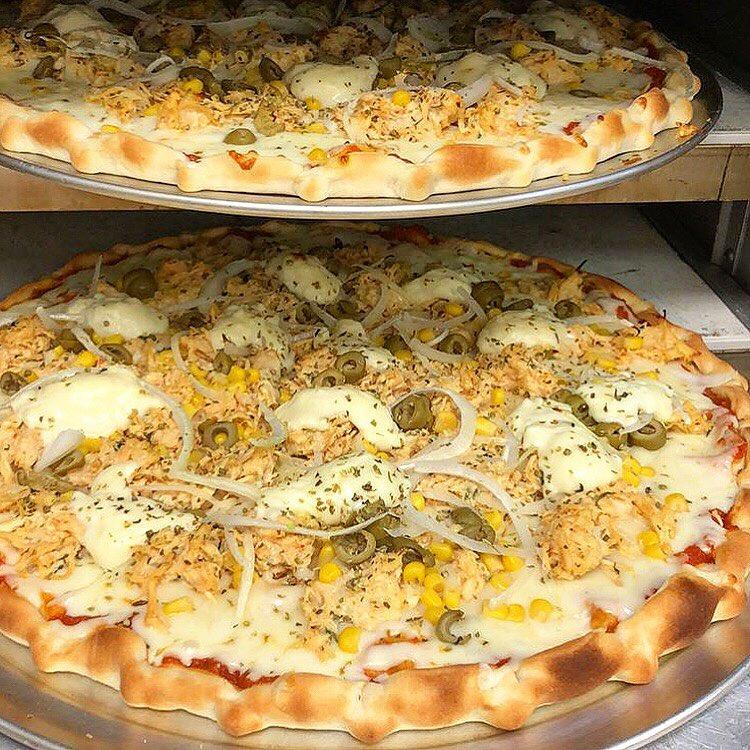Corn: (336, 621, 370, 657), (479, 595, 510, 624), (662, 490, 692, 519), (431, 405, 460, 435), (473, 411, 501, 442), (400, 557, 429, 586), (524, 593, 554, 621), (230, 560, 261, 587), (426, 537, 457, 564), (501, 599, 529, 627), (163, 592, 195, 616), (477, 550, 507, 575), (638, 541, 673, 562), (482, 502, 504, 533), (417, 584, 443, 609), (92, 328, 126, 347), (441, 587, 465, 613), (318, 560, 342, 585), (619, 453, 644, 477), (617, 468, 645, 489), (635, 367, 664, 387), (152, 348, 181, 368), (358, 435, 381, 460), (422, 569, 446, 592), (491, 569, 515, 592), (180, 74, 205, 96), (592, 353, 619, 373), (96, 120, 126, 138), (314, 541, 335, 566), (488, 383, 509, 408), (502, 551, 524, 574), (141, 94, 164, 116), (622, 332, 647, 352), (222, 544, 241, 570), (638, 526, 660, 548), (423, 604, 447, 624), (225, 362, 245, 386), (510, 40, 535, 59), (407, 490, 428, 512), (225, 377, 249, 396), (193, 371, 215, 391), (166, 43, 187, 63), (304, 119, 330, 135), (391, 89, 413, 107), (371, 445, 392, 463), (239, 417, 257, 438), (305, 147, 329, 162), (31, 81, 52, 98), (212, 45, 228, 67), (16, 74, 38, 90), (396, 348, 416, 365), (415, 325, 435, 342), (243, 368, 263, 385), (444, 302, 468, 316), (640, 464, 658, 481), (77, 350, 95, 367), (234, 50, 252, 67), (584, 58, 603, 74), (195, 47, 213, 63), (307, 95, 325, 110), (182, 400, 201, 414), (190, 364, 210, 377), (213, 430, 229, 444), (192, 392, 209, 405), (208, 381, 226, 393)
Mushroom: (0, 223, 750, 732), (0, 0, 701, 197)
Olives: (448, 500, 499, 548), (431, 602, 478, 653), (551, 388, 597, 436), (597, 418, 665, 446), (472, 280, 533, 310), (312, 352, 364, 386), (352, 499, 394, 538), (335, 528, 380, 564), (295, 300, 363, 323), (393, 395, 433, 429), (120, 266, 158, 301), (175, 63, 219, 91), (169, 307, 213, 334), (307, 243, 345, 274), (220, 76, 267, 101), (200, 420, 239, 450), (393, 536, 430, 565), (208, 347, 237, 380), (257, 53, 286, 84), (27, 22, 61, 48), (49, 451, 85, 475), (447, 22, 479, 49), (221, 125, 258, 148), (58, 327, 93, 351), (0, 370, 31, 397), (377, 52, 404, 82), (98, 342, 131, 366), (28, 52, 55, 81), (132, 28, 164, 51), (565, 84, 601, 103), (438, 333, 469, 355), (553, 299, 581, 319), (384, 332, 406, 353)
Onion: (399, 457, 538, 572), (392, 383, 486, 478), (124, 368, 204, 478), (365, 301, 478, 374), (385, 505, 524, 560), (165, 256, 281, 315), (204, 509, 398, 542), (160, 455, 264, 514), (31, 307, 122, 366), (218, 522, 261, 635), (120, 478, 230, 519), (347, 266, 401, 349), (678, 401, 742, 466), (202, 15, 331, 45), (272, 294, 339, 351), (0, 366, 78, 414), (22, 424, 85, 480), (89, 0, 218, 27), (168, 328, 217, 398), (638, 362, 743, 393), (265, 431, 328, 482), (470, 414, 523, 469), (37, 32, 135, 61), (522, 34, 613, 65), (123, 51, 183, 90), (247, 398, 288, 455), (603, 45, 673, 76), (406, 17, 464, 54), (563, 304, 641, 328), (452, 69, 495, 109), (345, 10, 395, 44), (451, 287, 493, 327), (82, 251, 112, 302), (399, 52, 479, 67), (488, 73, 527, 97), (428, 61, 459, 91), (474, 4, 522, 23), (371, 30, 400, 61), (514, 94, 531, 127), (334, 0, 347, 27)
